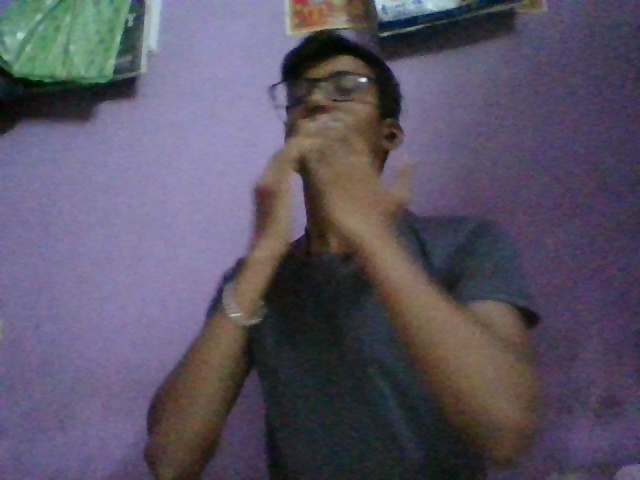Thank You: (206, 110, 442, 279)
